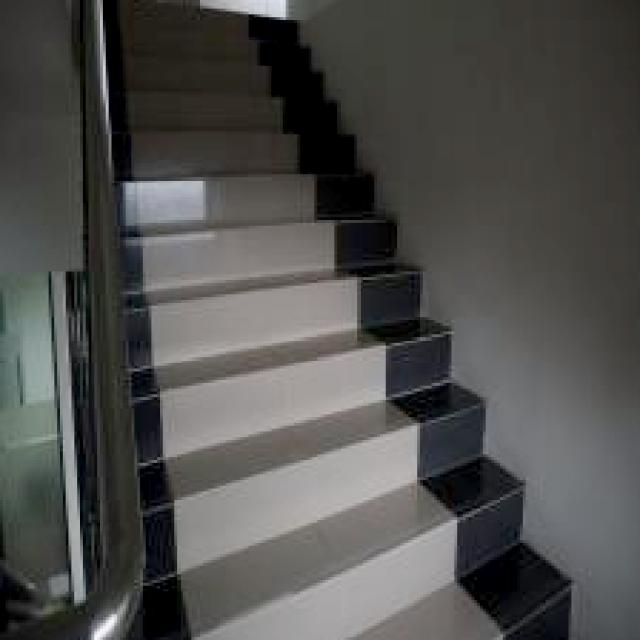upstair: (135, 24, 450, 640)
